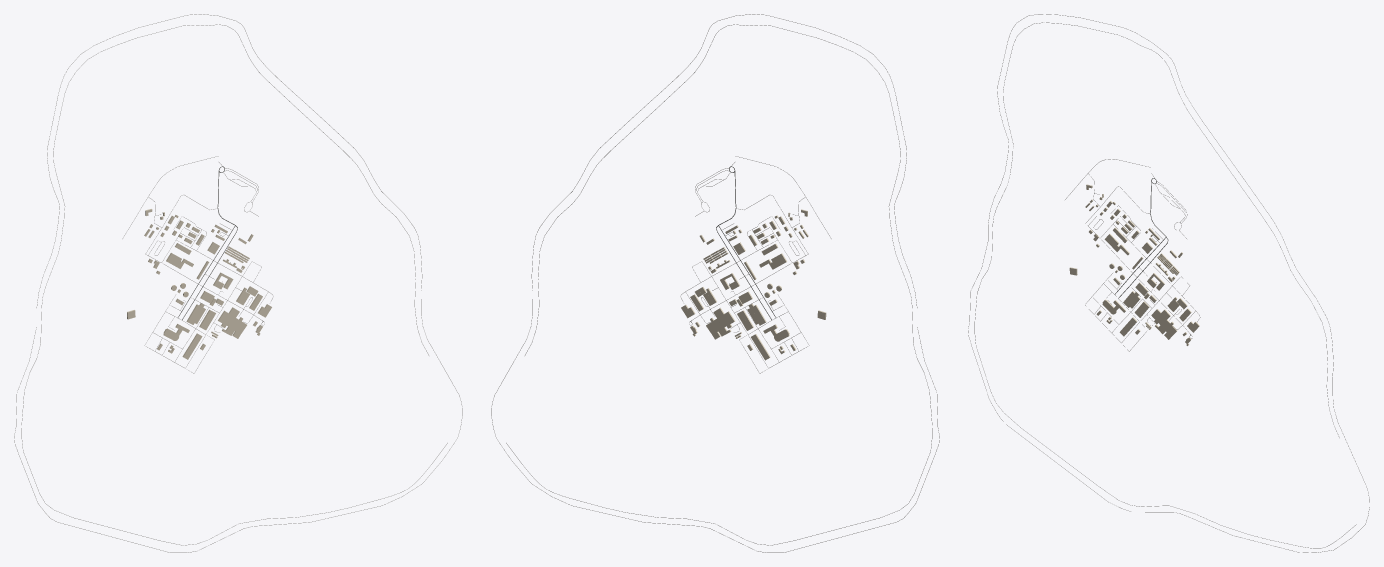
File: historic-palestine-09_16_3514_3100.glb
3 renders of one model, left to right at view 1: azimuth 30°, elevation 25°; view 2: azimuth 150°, elevation 25°; view 3: azimuth 330°, elevation 25°, orthographic. The views are drawn at different scales.
Visible parts, largest first — view 1: Road .004, Road .003; view 2: Road .004, Road .003; view 3: Road .004, Road .003.
Boxes of the visible parts, box(x1,y1,x2,y2) form: Road .004: box(14, 14, 462, 552); Road .003: box(21, 24, 447, 545); Road .004: box(491, 14, 939, 552); Road .003: box(506, 24, 932, 545); Road .004: box(968, 14, 1369, 552); Road .003: box(974, 22, 1356, 548).
Bounding box in the file's own units: 2417 × 2775 × 8.7.
